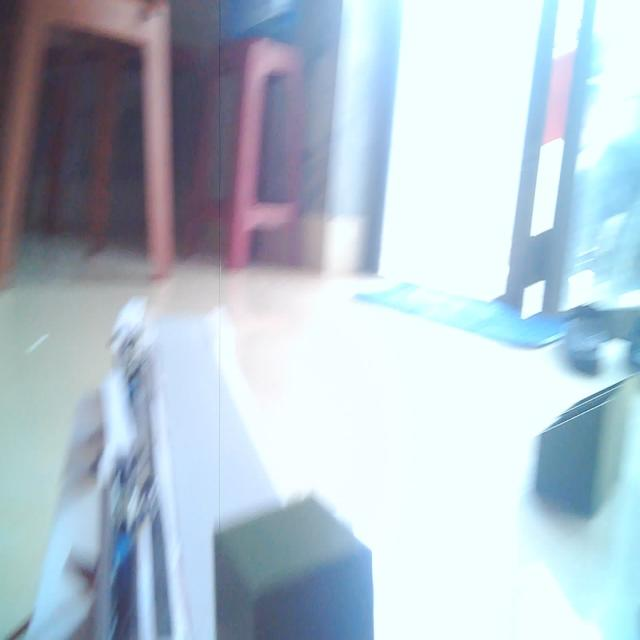green: (210, 488, 377, 640)
